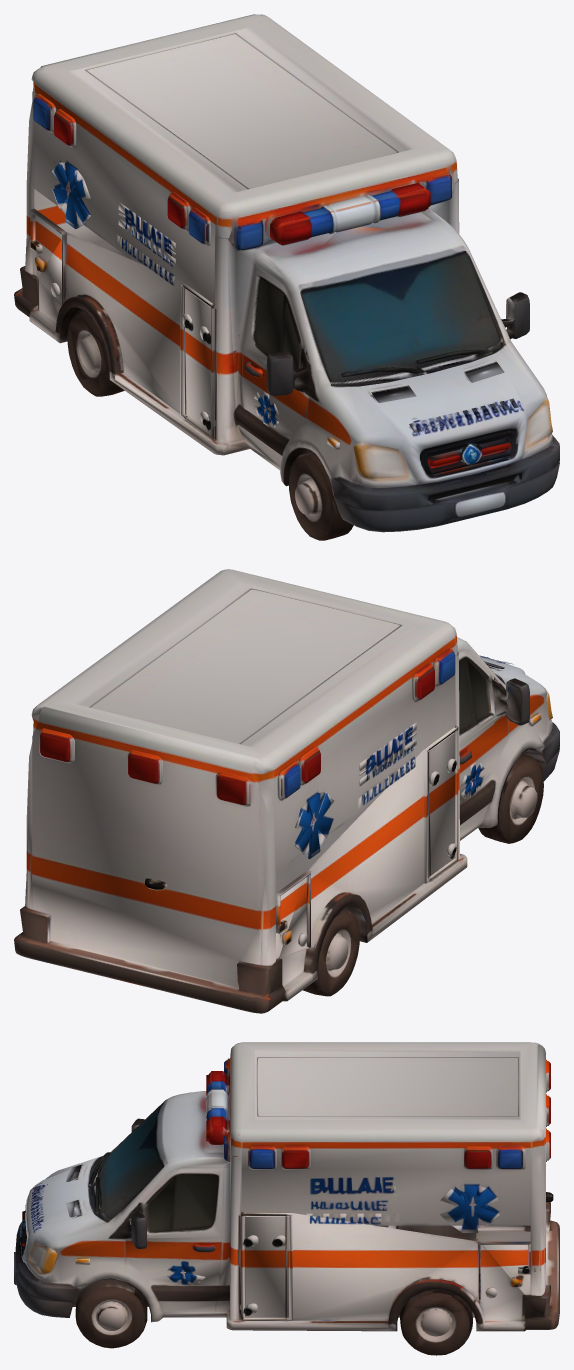
Rendered from Medical__an_ambulance_8617a018_v4.cluster.glb.
3 views of the same model, one above another, from view 1: azimuth 30°, elevation 25°; view 2: azimuth 150°, elevation 25°; view 3: azimuth 270°, elevation 25° (orthographic). The views are drawn at different scales.
Visible parts, largest first — view 1: material; view 2: material; view 3: material.
Boxes of the visible parts, x1=… form: material: x1=14, y1=14, x2=559, y2=540; material: x1=14, y1=569, x2=559, y2=1013; material: x1=14, y1=1042, x2=559, y2=1355.
Size of the model in its own units: 0.8377 by 0.8553 by 1.9.
Materials: 1 (1 with a texture image).
